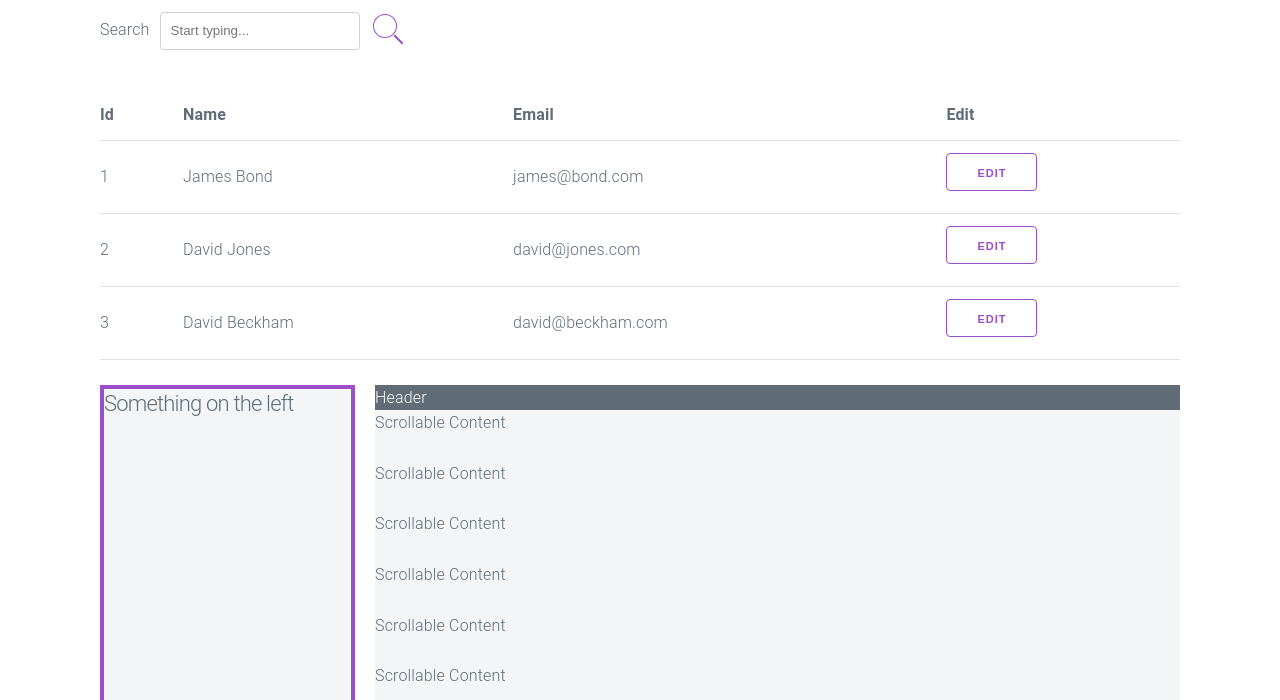
render Main app › when customers is resolved › click on first edit button to open edit form
What coordinates should you click on to do the following:
click the button "Edit" in the row of "James Bond"
I would click on:
 (992, 172)
Its box is [946, 153, 1038, 191].
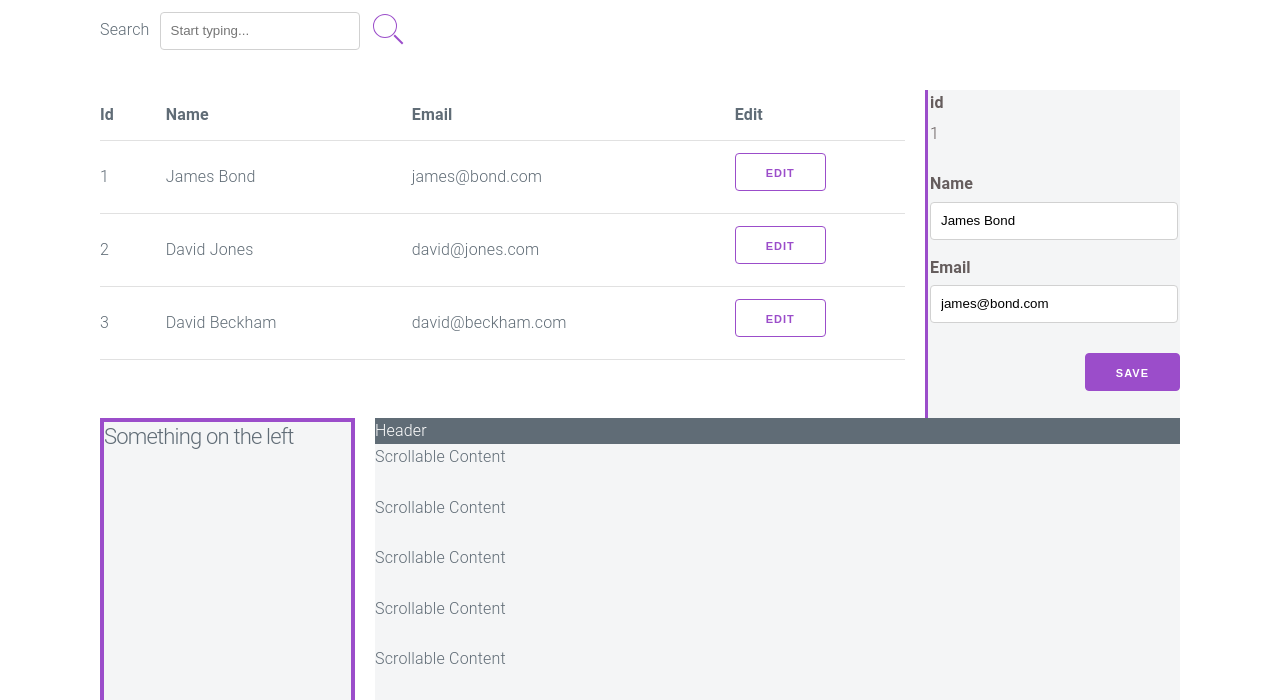
Now the number of "EditForm" components is 1, box [925, 90, 1180, 418]
